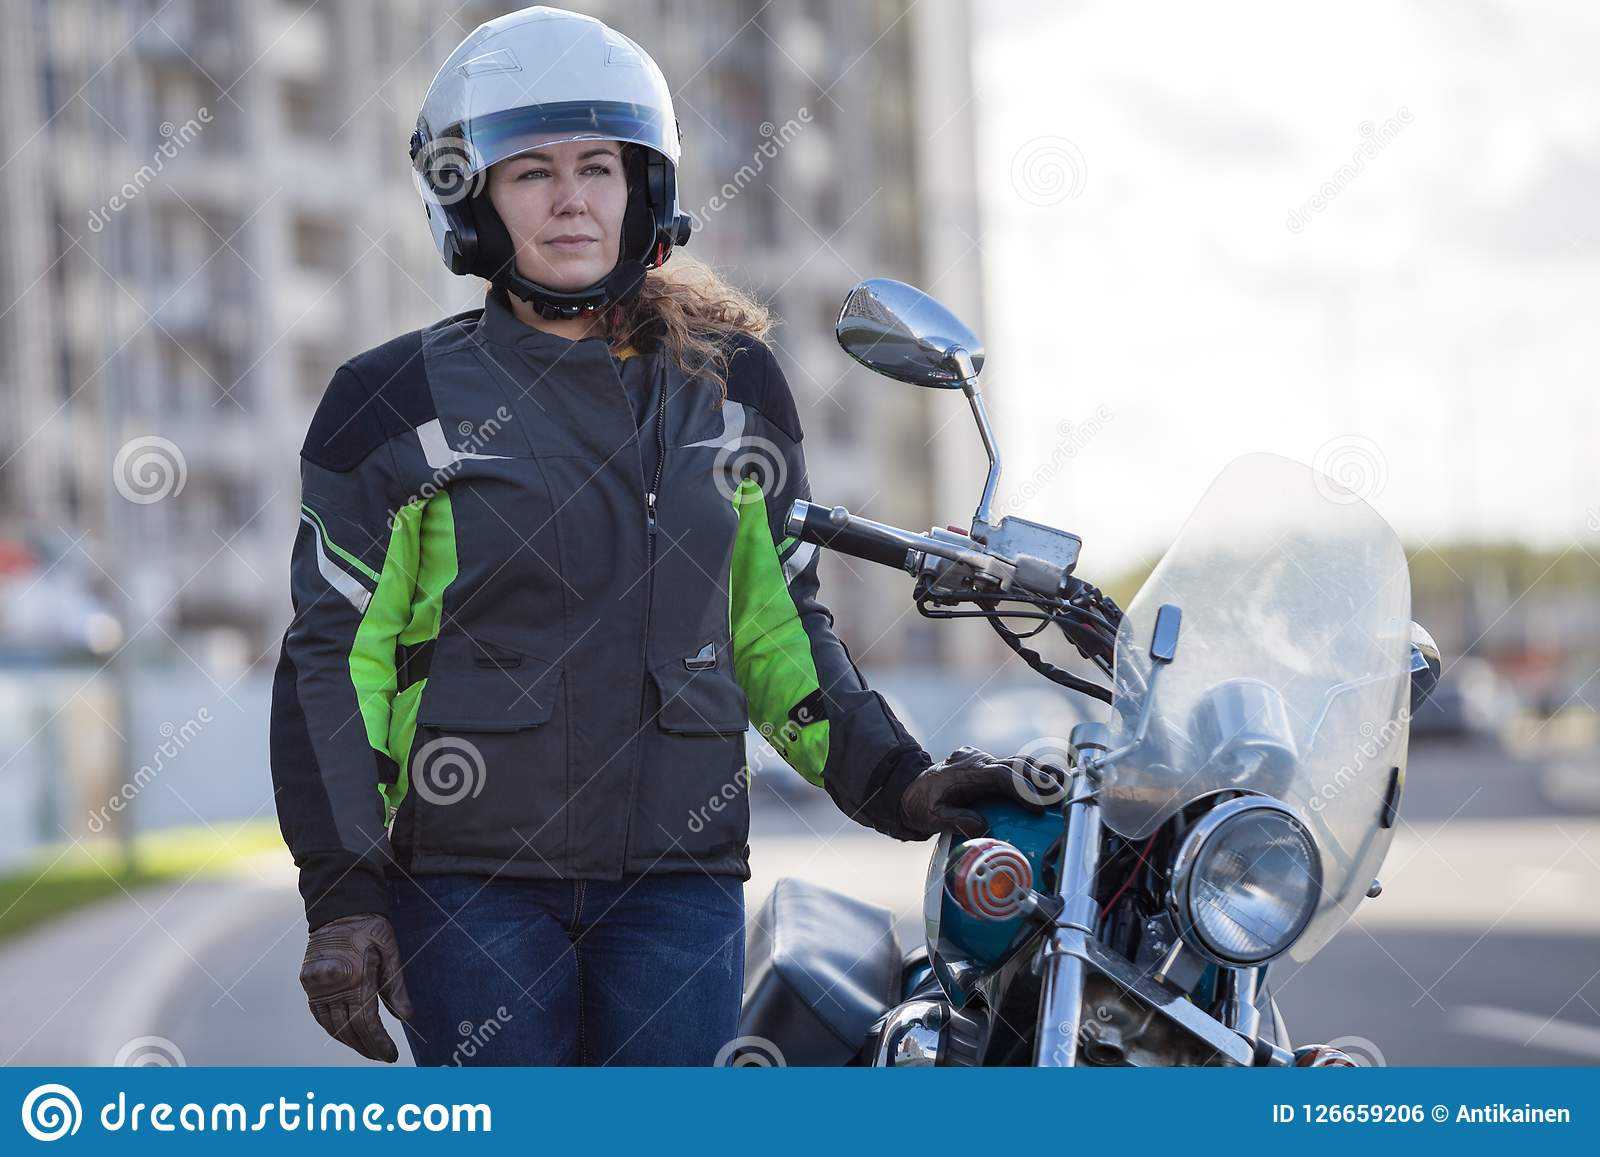helmet: (417, 34, 708, 232)
